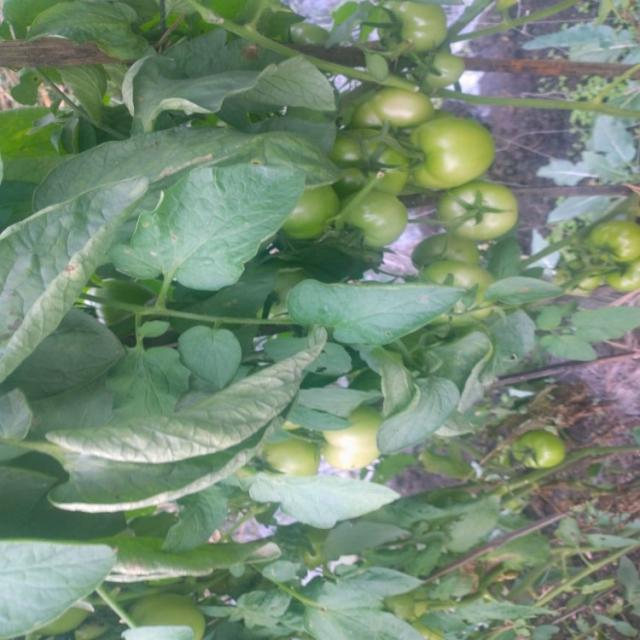tomato: (407, 106, 499, 194), (431, 171, 515, 241), (335, 128, 409, 195), (341, 188, 409, 252), (426, 261, 498, 318), (324, 410, 386, 475), (351, 82, 430, 131), (373, 3, 444, 57), (286, 179, 338, 242), (127, 599, 204, 638), (508, 429, 569, 475), (409, 230, 482, 268), (590, 213, 640, 266), (414, 49, 469, 91), (549, 258, 604, 298), (262, 435, 318, 471), (607, 259, 640, 291)
